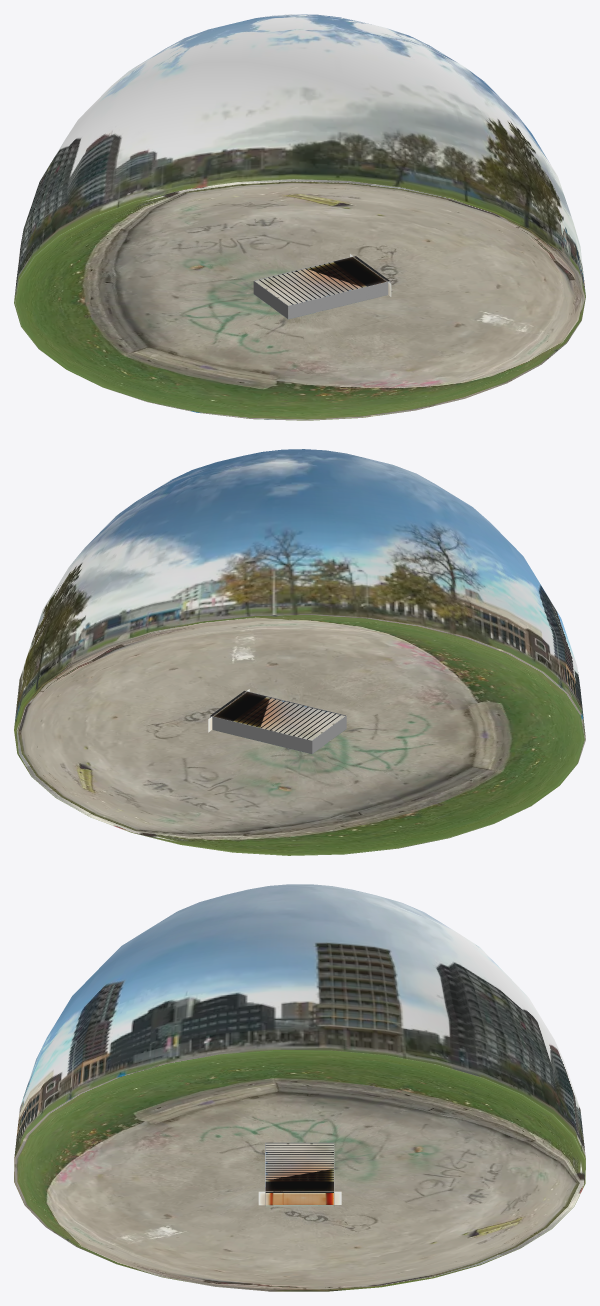
The model's file is showroom_01.glb.
The picture shows the model from 3 angles, top to bottom: view 1: azimuth 30°, elevation 25°; view 2: azimuth 150°, elevation 25°; view 3: azimuth 270°, elevation 25°; orthographic projection.
Visible parts, largest first — view 1: KIA_Showroom__ENV, Ceiling, Glass; view 2: KIA_Showroom__ENV, Ceiling, Glass; view 3: KIA_Showroom__ENV, Ceiling, Showroom.
Part boxes in pixels (left/top/right/bottom): KIA_Showroom__ENV: left=14, top=14, right=585, bottom=420; Ceiling: left=255, top=256, right=389, bottom=305; Glass: left=253, top=256, right=390, bottom=318; KIA_Showroom__ENV: left=14, top=449, right=585, bottom=855; Ceiling: left=210, top=691, right=345, bottom=740; Glass: left=210, top=690, right=346, bottom=753; KIA_Showroom__ENV: left=14, top=884, right=585, bottom=1291; Ceiling: left=265, top=1143, right=333, bottom=1192; Showroom: left=258, top=1152, right=341, bottom=1205.
Bounding box in the file's own units: 199 × 100 × 199.
Materials: 12 (11 with a texture image).
